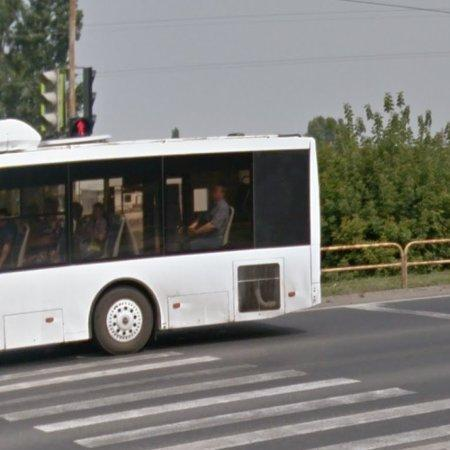buses: (0, 122, 321, 354)
